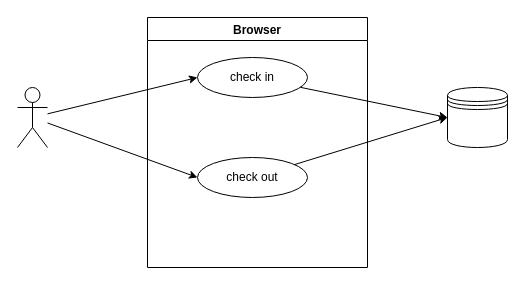
Image size: 525x285. Some labels were removed from this diagram. Each missing label, with the centre of its shape:
Actor: the point at 32,117
DB: the point at 477,117
